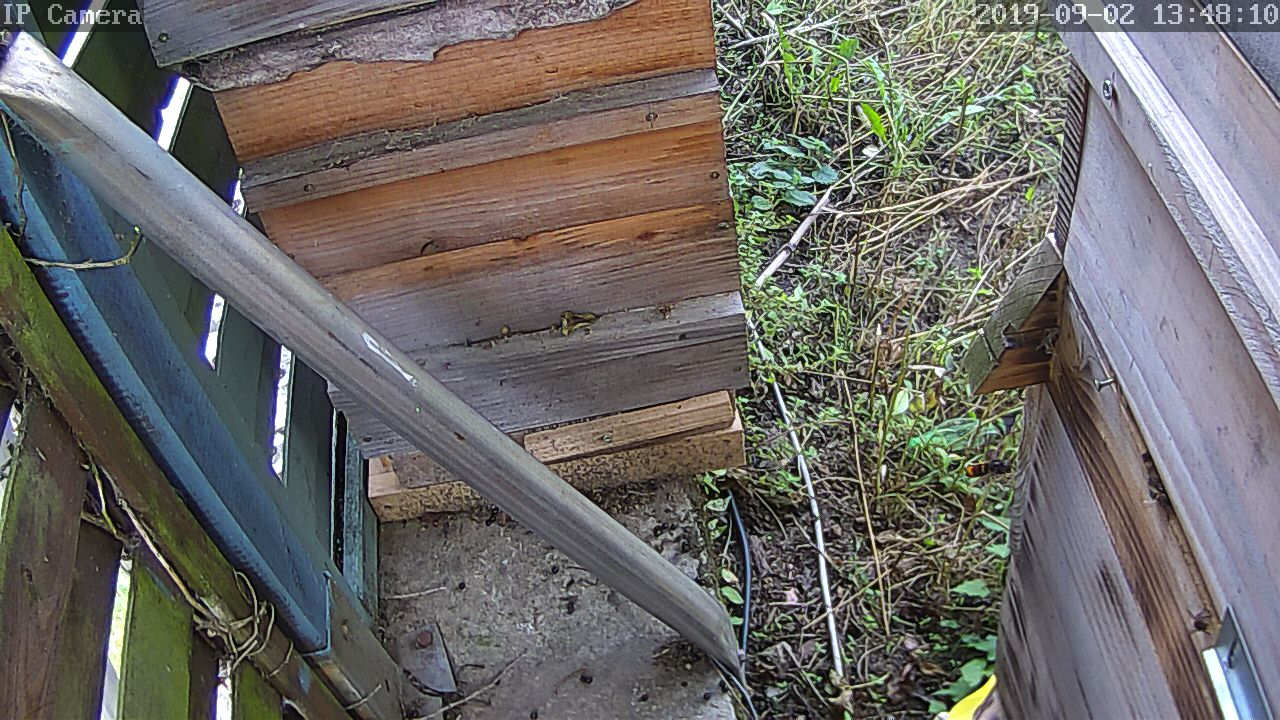bee: (1187, 604, 1217, 632), (1144, 470, 1171, 500)
hornet: (958, 452, 1024, 484)
